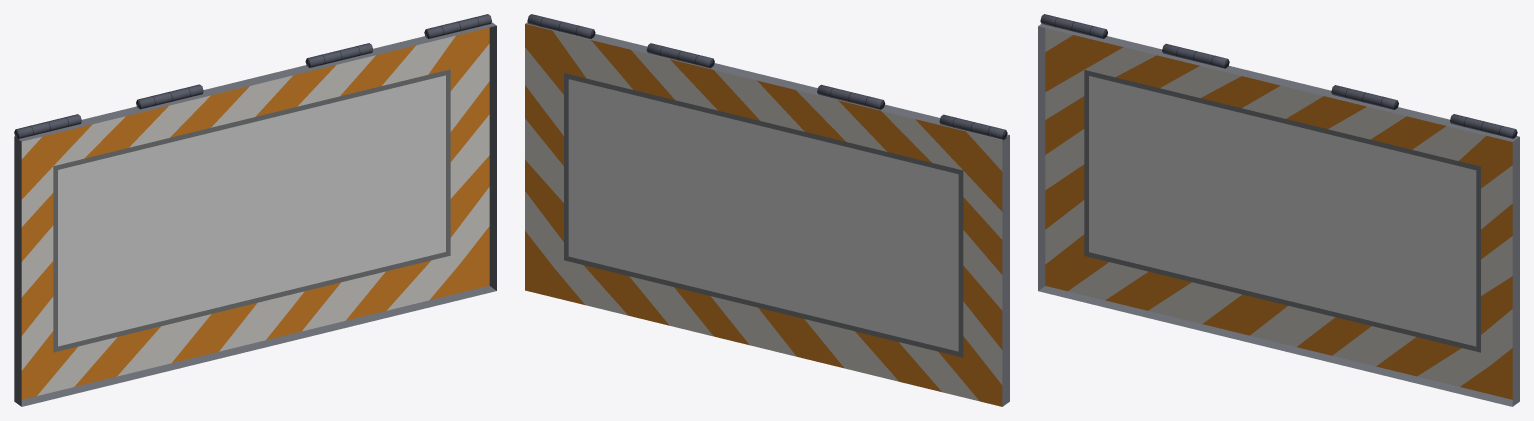
File: StartGatePlatform.fbx
3 renders of one model, left to right at view 1: azimuth 30°, elevation 25°; view 2: azimuth 150°, elevation 25°; view 3: azimuth 330°, elevation 25°, orthographic.
Parts seen in each view (by area): view 1: StartGatePlatform; view 2: StartGatePlatform; view 3: StartGatePlatform.
Part boxes in pixels (x1,y1,x2,y2): StartGatePlatform: [14, 14, 496, 406]; StartGatePlatform: [525, 14, 1009, 406]; StartGatePlatform: [1038, 14, 1519, 406].
Bounding box in the file's own units: 648 × 356 × 18.
